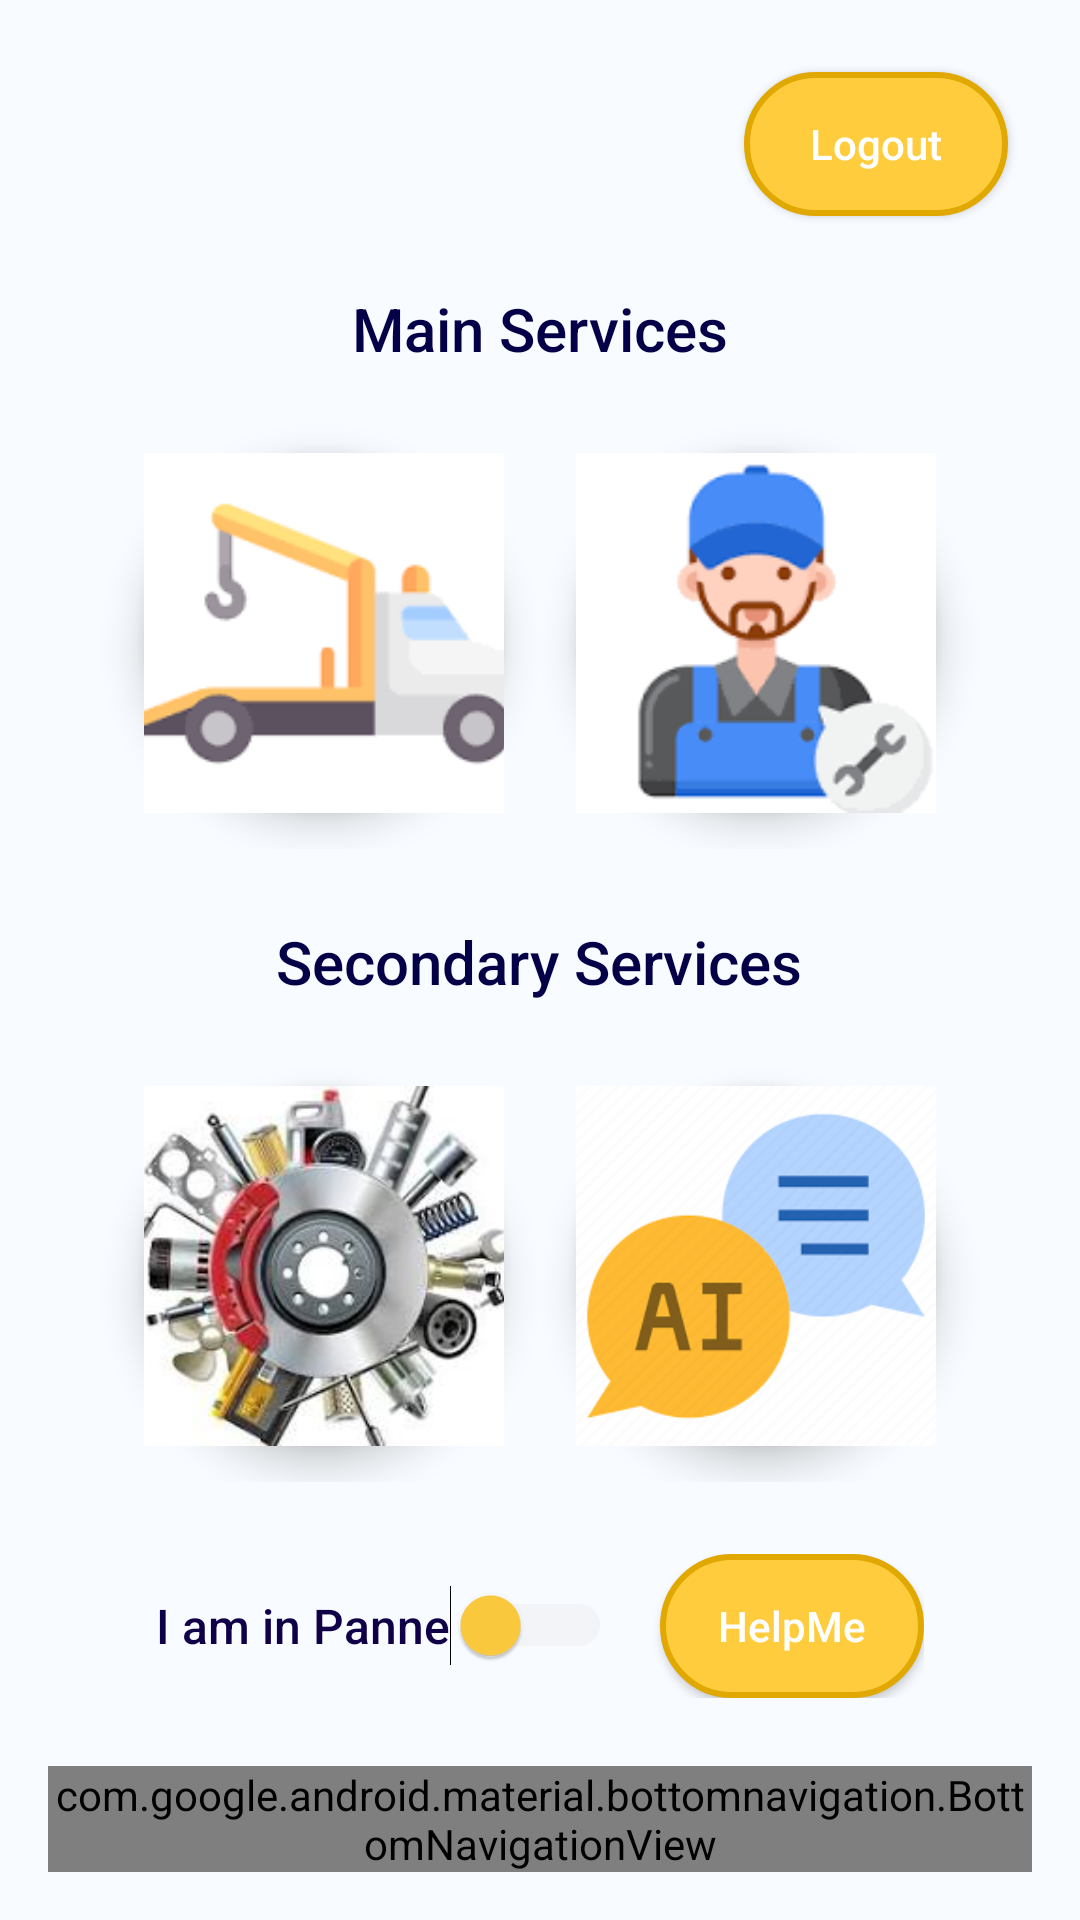

Icon bounding boxes for this 1080w x 1920h phone screenshot, format (x1,y1,x2,y2):
ask ai: (587,1114,925,1419)
depannage: (144,503,504,764)
mecanicien: (638,464,929,813)
piece detache: (144,1086,504,1446)
